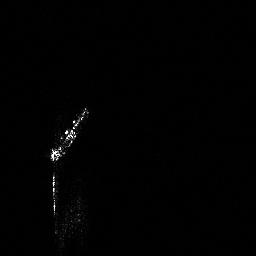ship: (42, 101, 93, 167)
